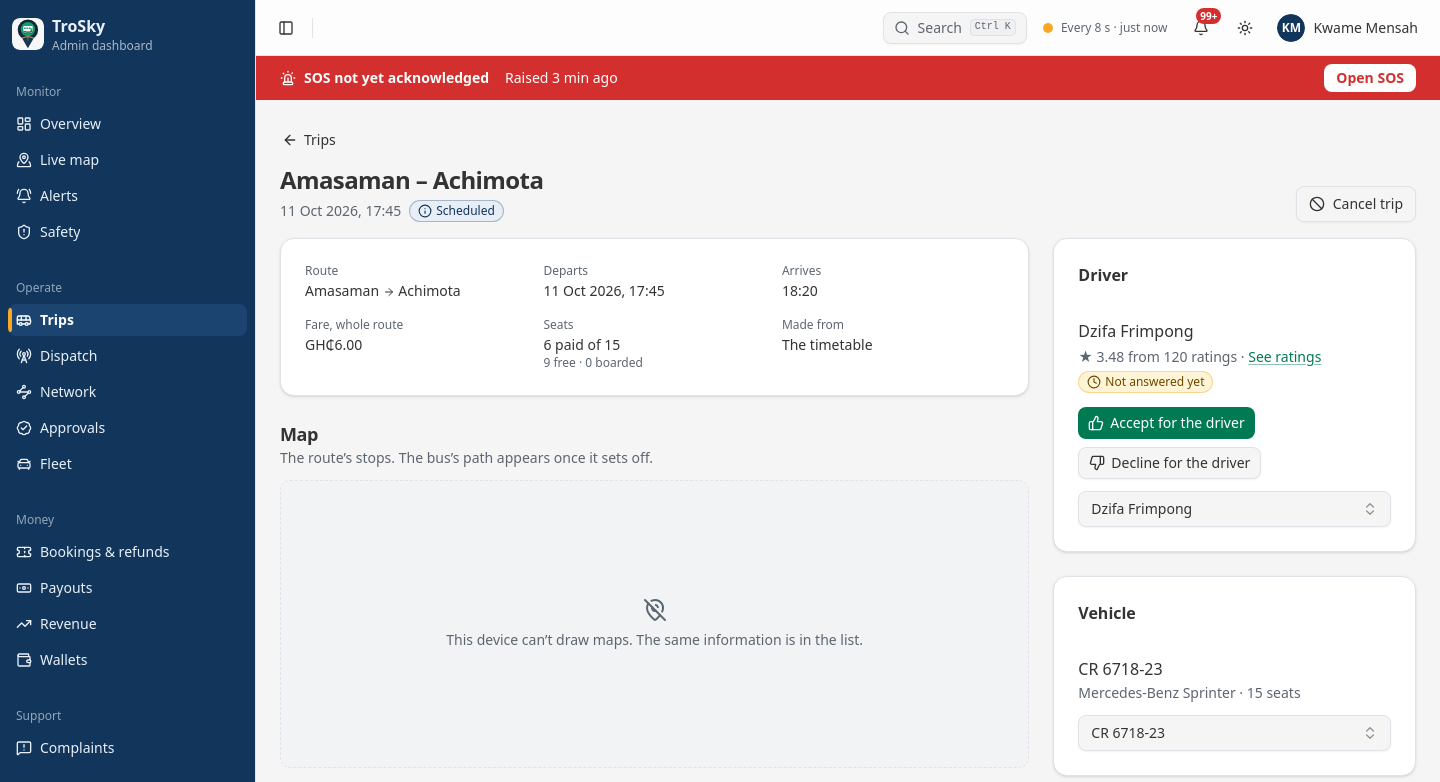
Test case: A trip › declines for the driver only with a reason
The image size is (1440, 782).
Click the button "Decline for the driver": (1170, 463) [1078,447,1261,479]
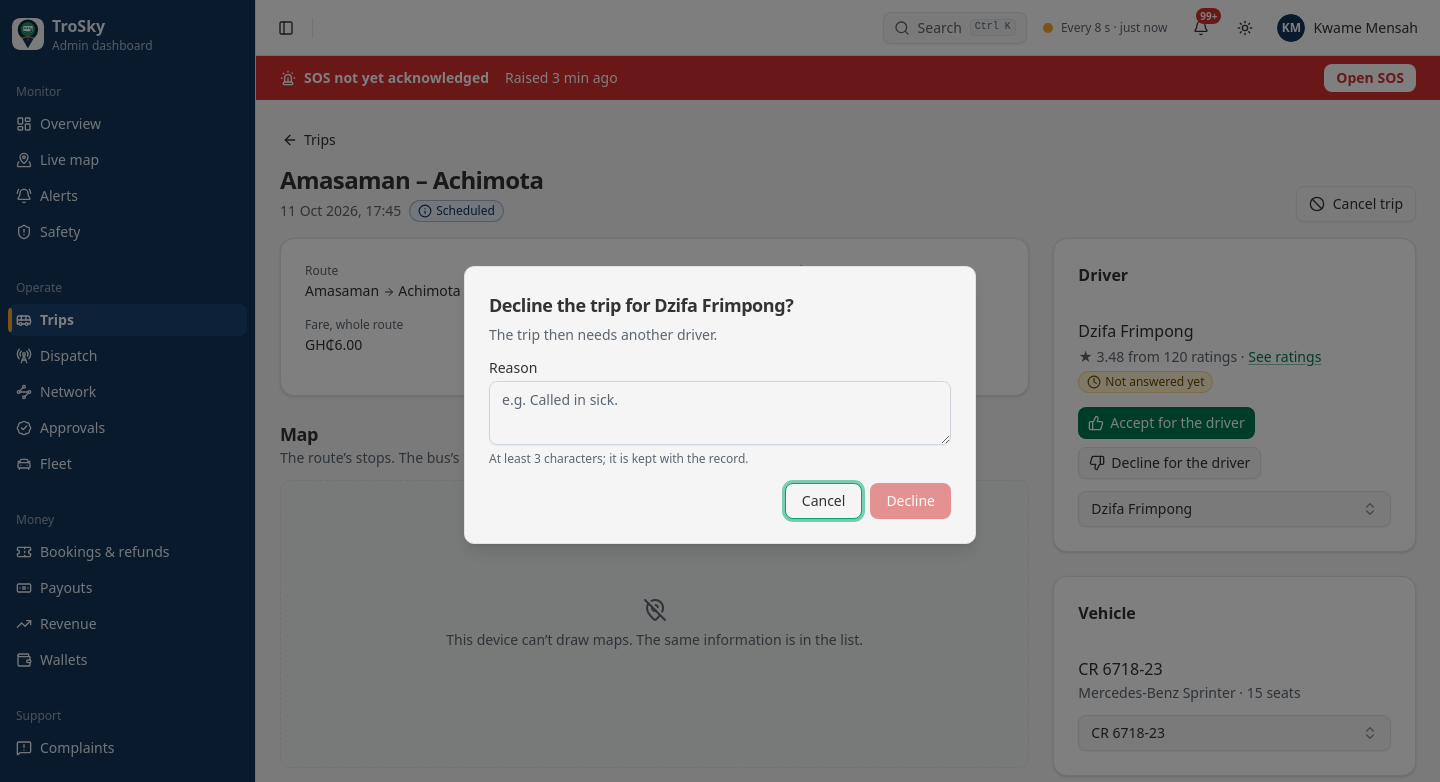
Expected: the button "Decline" is disabled, [870,483,951,519]
In the text box labelled "Reason": (720, 413) [489,381,951,445], type "Called in sick."
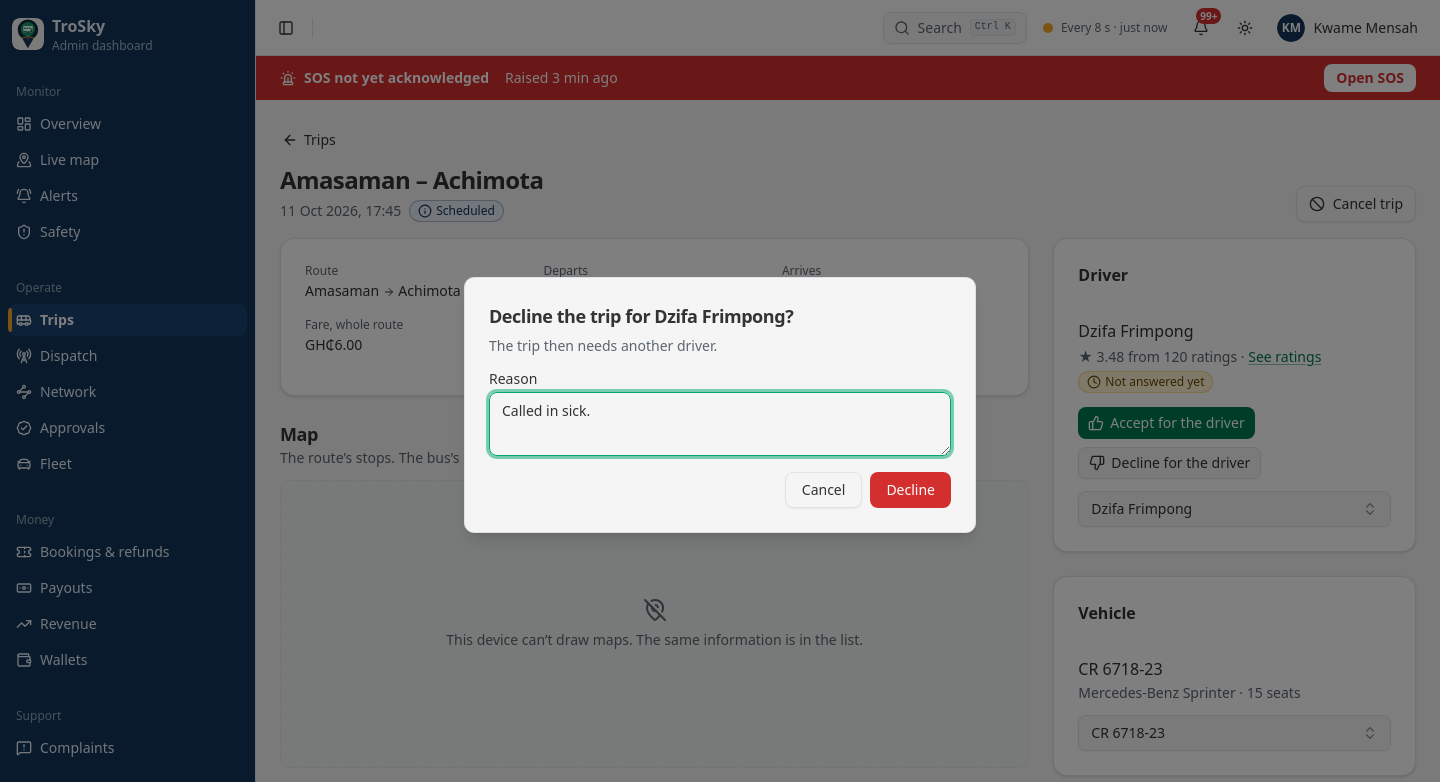
Click the button "Decline": (911, 490) [870,472,951,508]
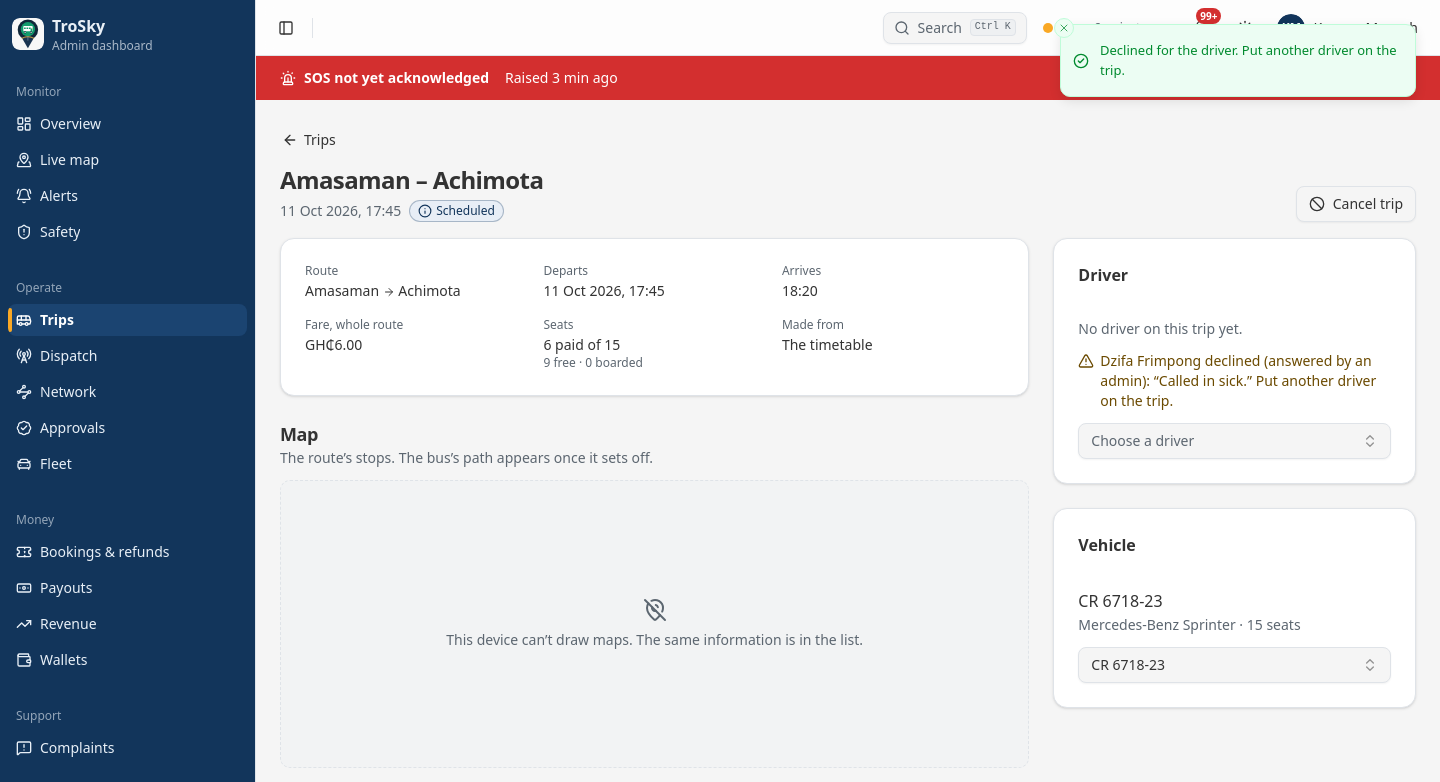
Expected: the text "Declined for the driver. Put another driver on the trip." is shown, [1100,41,1399,80]
Expected: the text "No driver on this trip yet." is shown, [1078,319,1242,338]
Expected: the text "declined (answered by an admin): “Called in sick.”" is shown, [1100,351,1391,411]
